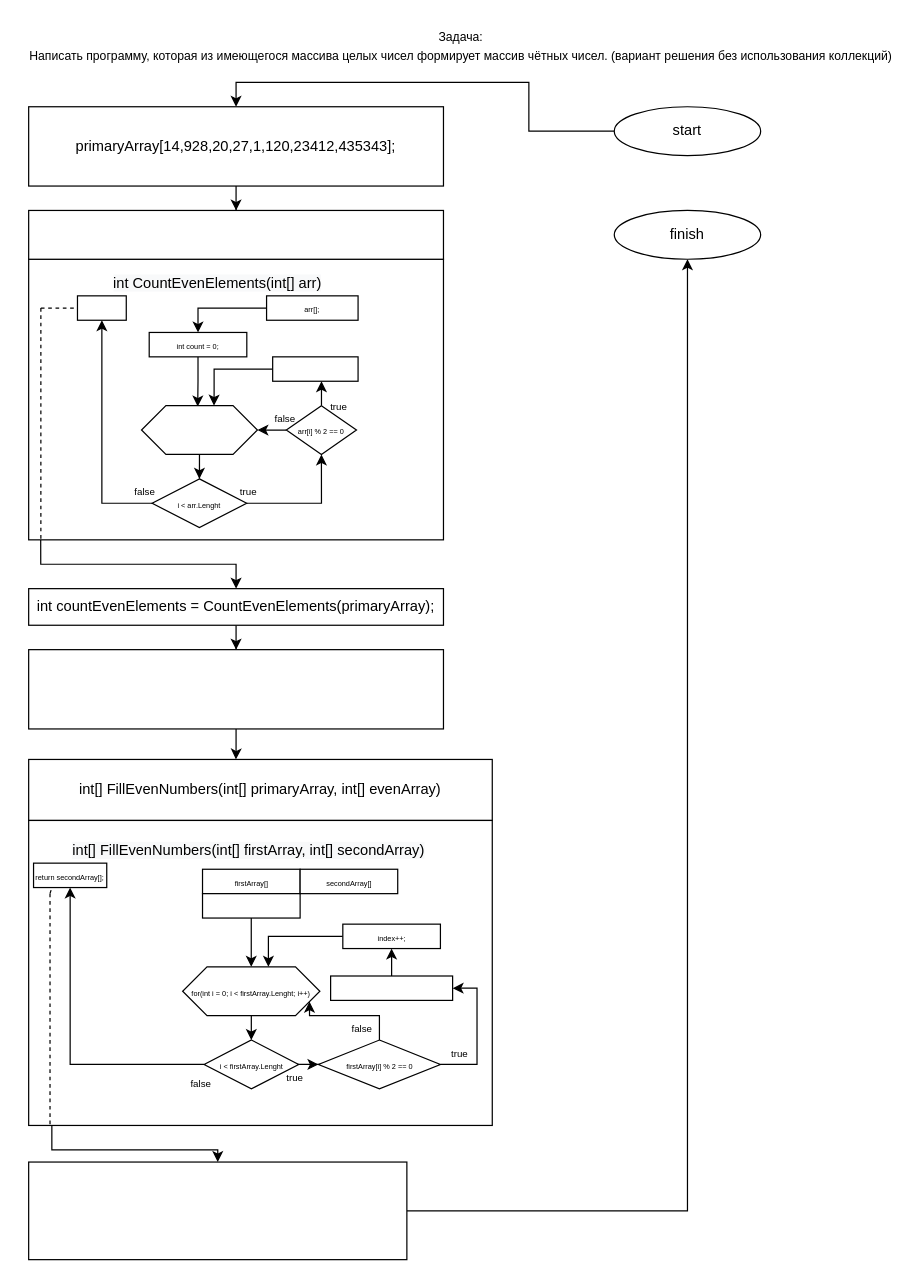
Some shapes in this 920 by 1281 pixel diagram are drawn without their labels. The centre of each missing label's shape, as x and y in pixels:
count++;: pixel 314 368
for(int i = 0; i < arr.Lenght; i++): pixel 198 429
int CountEvenElements(int[] primaryArray): pixel 235 234
int index = 0;: pixel 250 905
int[] evenArray = new int[countEvenElements];: pixel 235 688
return count;: pixel 101 307
secondArray[index] = firstArray[i];: pixel 391 987
void PrintArray(int[] evenArray): pixel 217 1210
